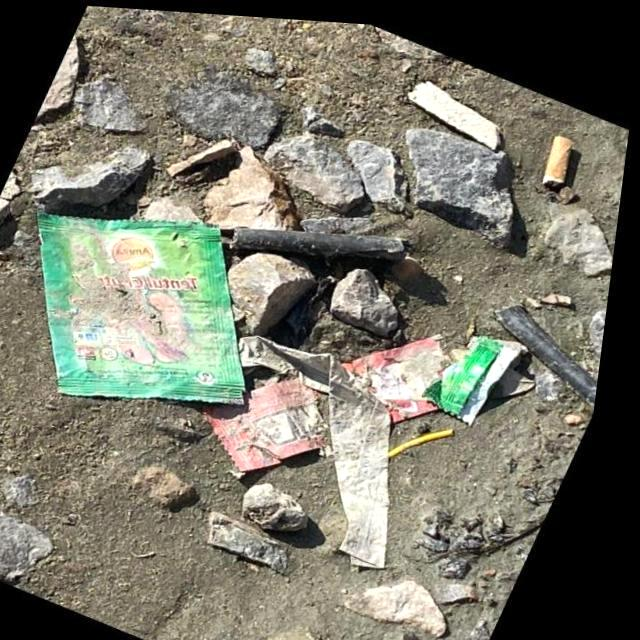packet: (40, 201, 237, 406)
